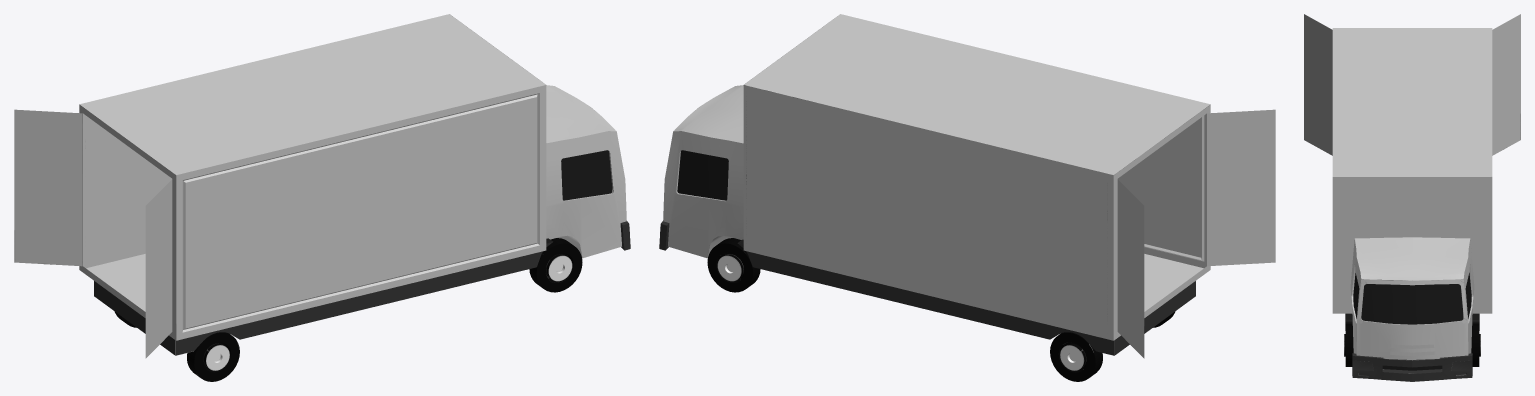
File: camion.fbx
3 views of the same model, side by side, from view 1: azimuth 30°, elevation 25°; view 2: azimuth 150°, elevation 25°; view 3: azimuth 270°, elevation 25° (orthographic). The views are drawn at different scales.
Visible parts, largest first — view 1: Plane; view 2: Plane; view 3: Plane.
Part boxes in pixels (bbox=[...]): Plane: bbox=[14, 14, 630, 381]; Plane: bbox=[659, 14, 1275, 381]; Plane: bbox=[1304, 14, 1520, 381].
Size of the model in its own units: 1217 by 496 by 528.
1 material, 1 textured.
